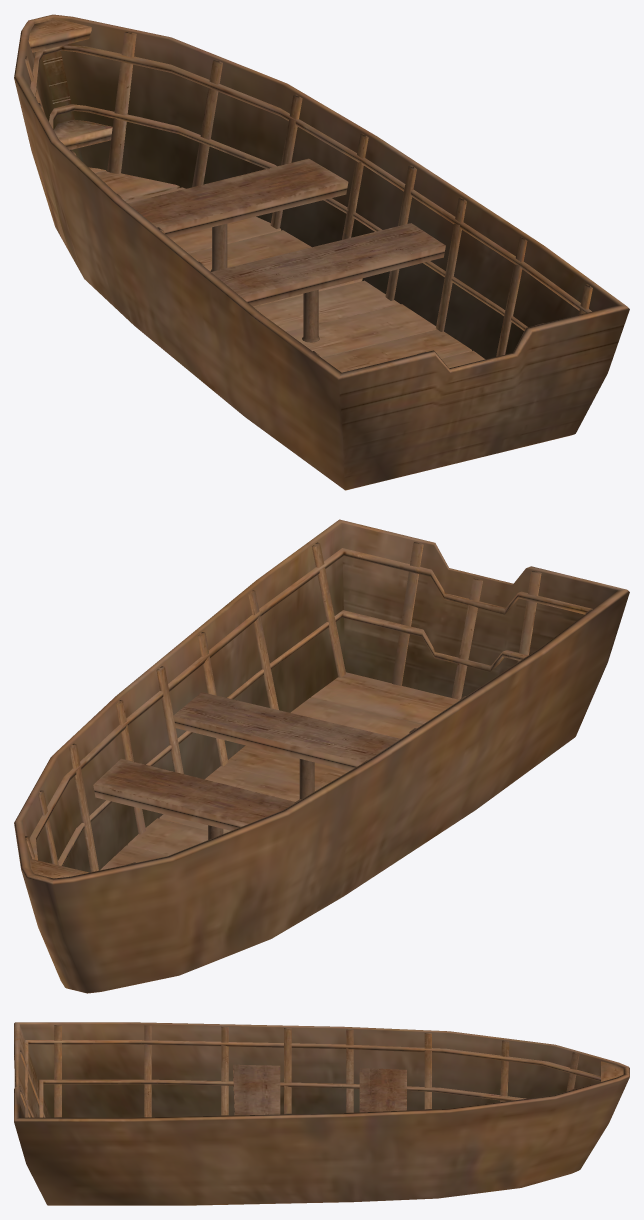
The model's file is fab-eka.glb.
3 renders of one model, top to bottom at view 1: azimuth 30°, elevation 25°; view 2: azimuth 150°, elevation 25°; view 3: azimuth 270°, elevation 25°, orthographic. The views are drawn at different scales.
Visible parts, largest first — view 1: eka; view 2: eka; view 3: eka.
Boxes of the visible parts, box(x1,y1,x2,y2) form: eka: box(14, 14, 629, 490); eka: box(14, 519, 629, 993); eka: box(14, 1022, 629, 1205).
Size of the model in its own units: 1.44 by 0.6583 by 3.81.
Materials: 1 (1 with a texture image).
